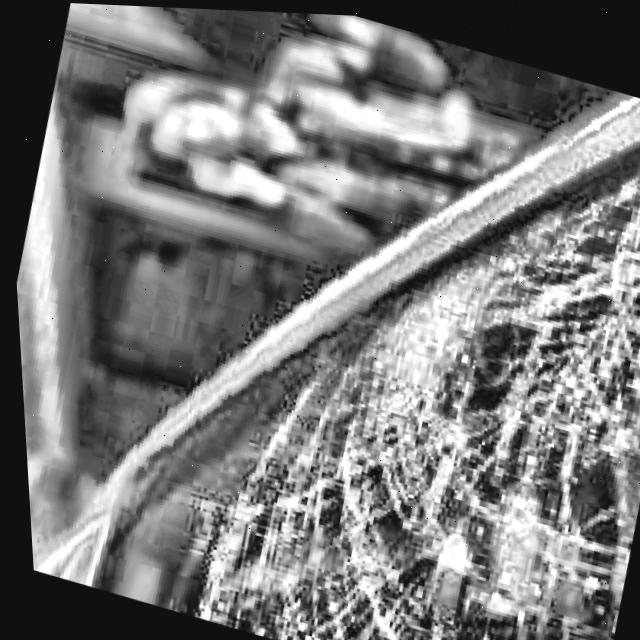glass_shatter: (252, 109, 640, 640)
